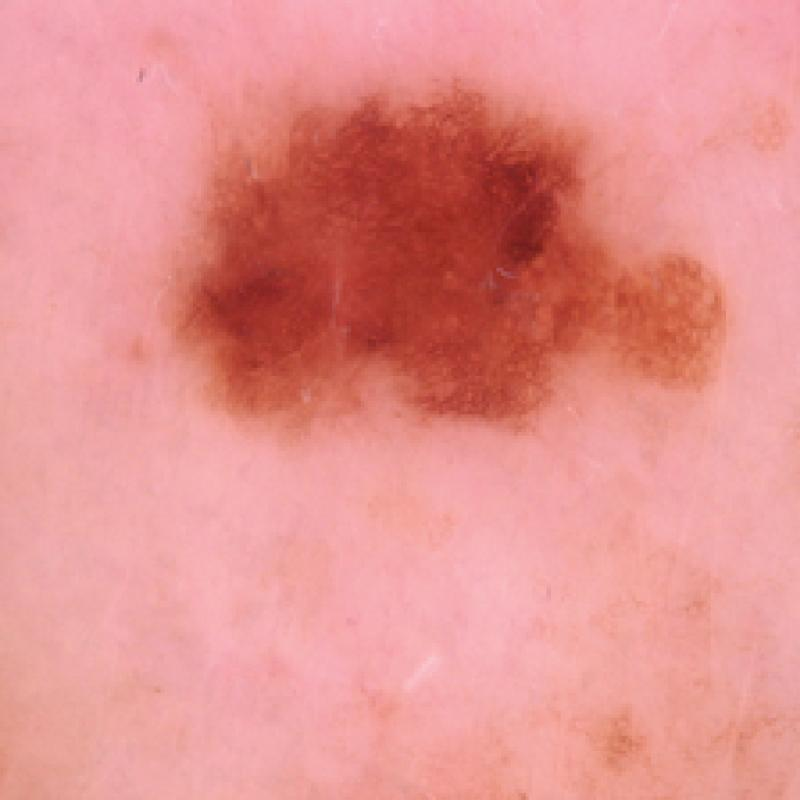benign: (132, 49, 734, 452)
